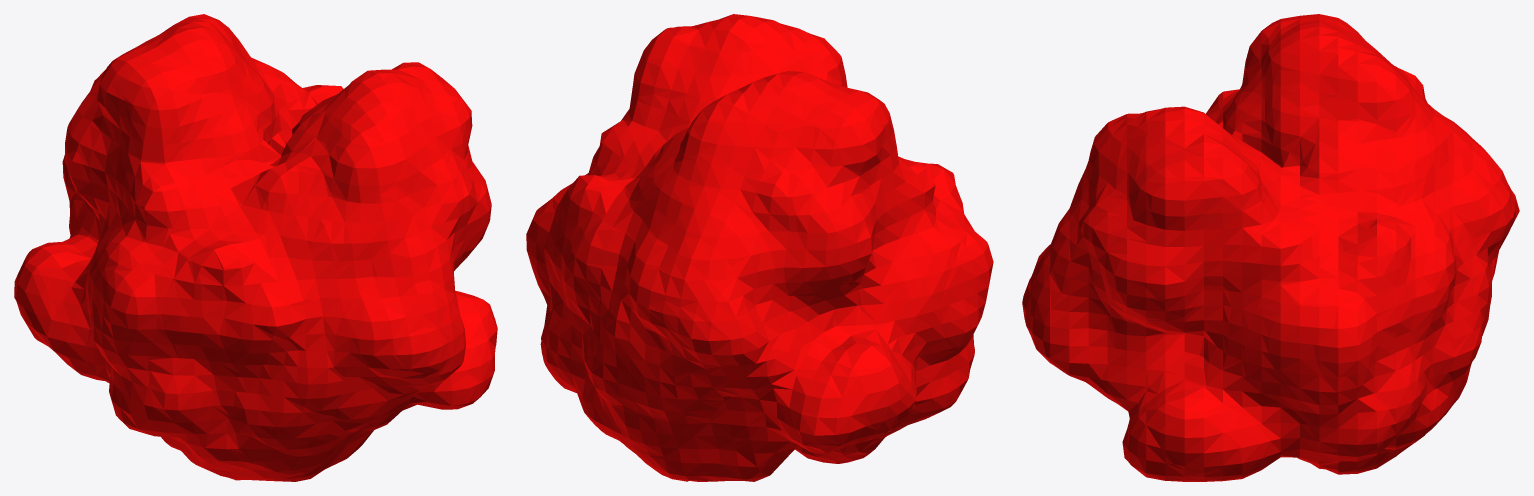
Rendered from Glucose_6_phosphate_isomerase_coarse.dae.
3 views of the same model, side by side, from view 1: azimuth 30°, elevation 25°; view 2: azimuth 150°, elevation 25°; view 3: azimuth 270°, elevation 25° (orthographic).
Visible parts, largest first — view 1: Glucose_6_phosphate_isomerase; view 2: Glucose_6_phosphate_isomerase; view 3: Glucose_6_phosphate_isomerase.
Boxes of the visible parts, x1,y1,x2,y2 form: Glucose_6_phosphate_isomerase: (14, 14, 497, 481); Glucose_6_phosphate_isomerase: (526, 14, 993, 481); Glucose_6_phosphate_isomerase: (1022, 14, 1519, 481).
Bounding box in the file's own units: 79.02 × 81.58 × 89.1.
